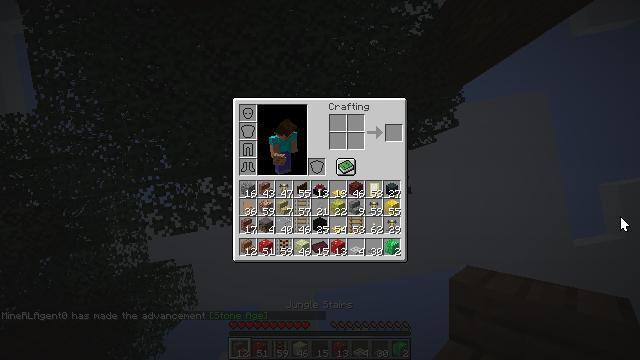cursor: (620, 216, 630, 232)
